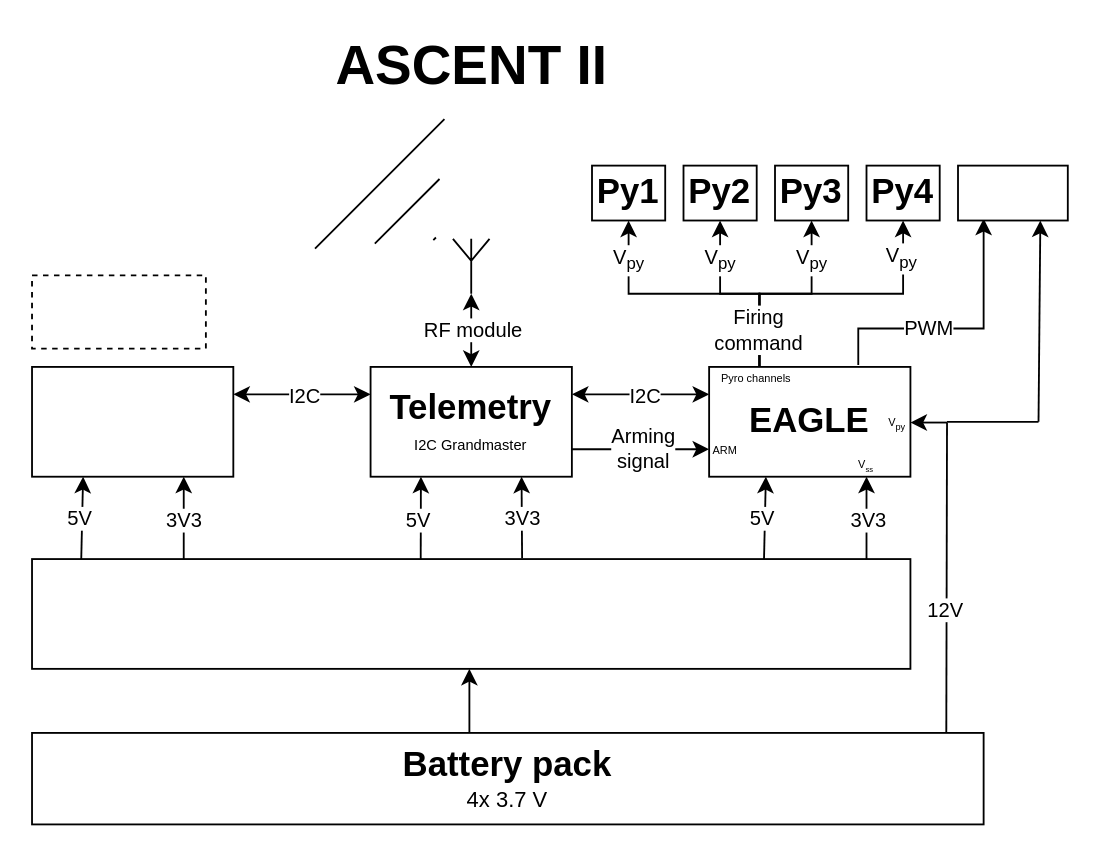
This 1100x856 diagram has some shape labels left out. Each missing label, with the centre of its shape:
"Battery Management System" belongs at pixel 470 613.
"Black = Signal Red = Power" belongs at pixel 118 311.
"Sensors" belongs at pixel 131 421.
"Servo" belongs at pixel 1012 192.
